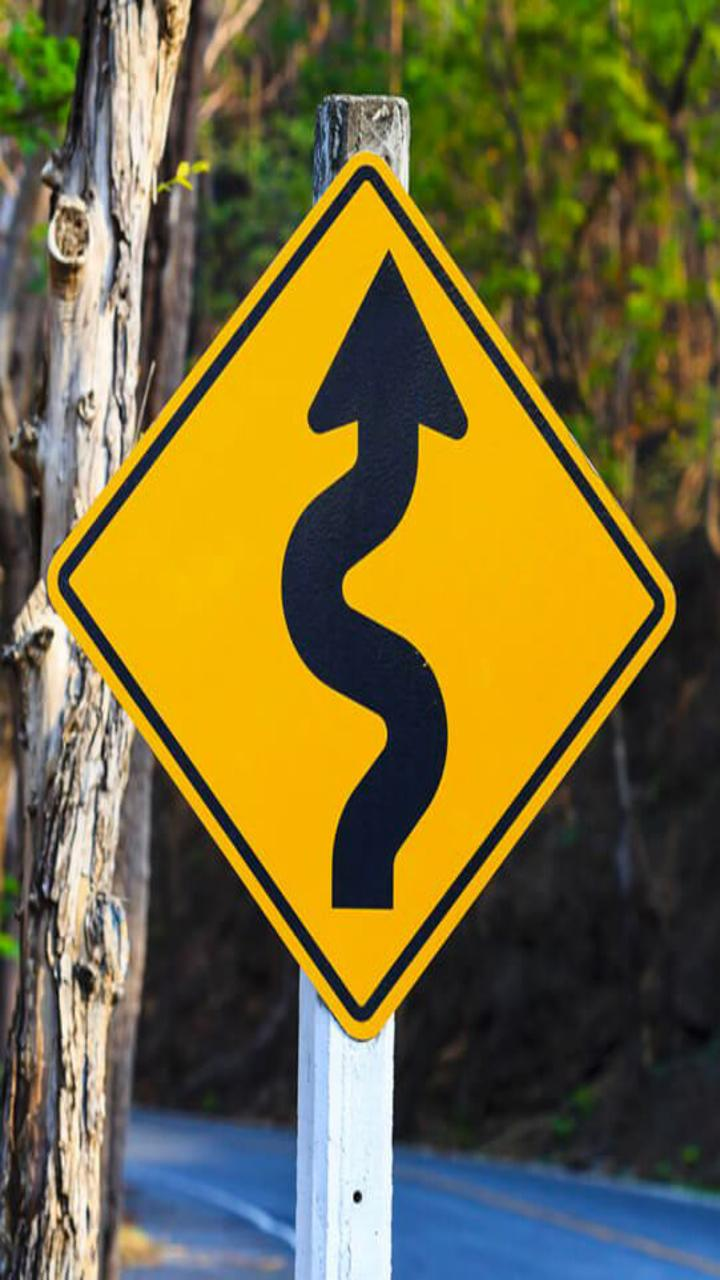Traffic sign: (27, 116, 692, 1043)
